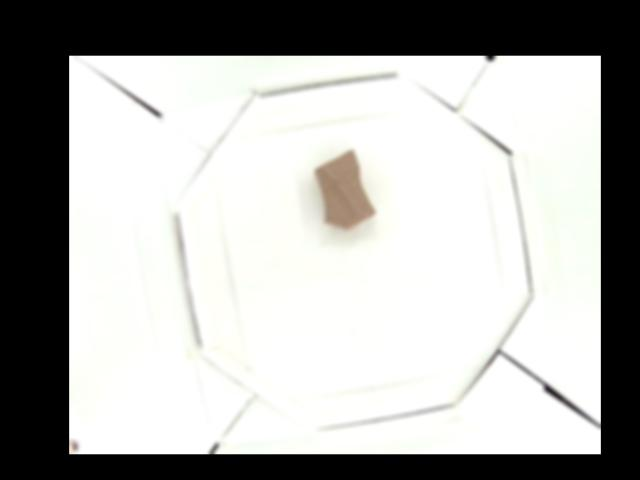China: (314, 148, 377, 229)
